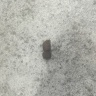Dog: (43, 39, 51, 59)
